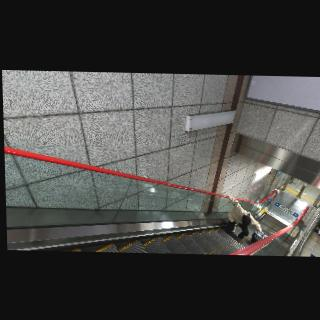anomaly: (223, 193, 262, 243)
